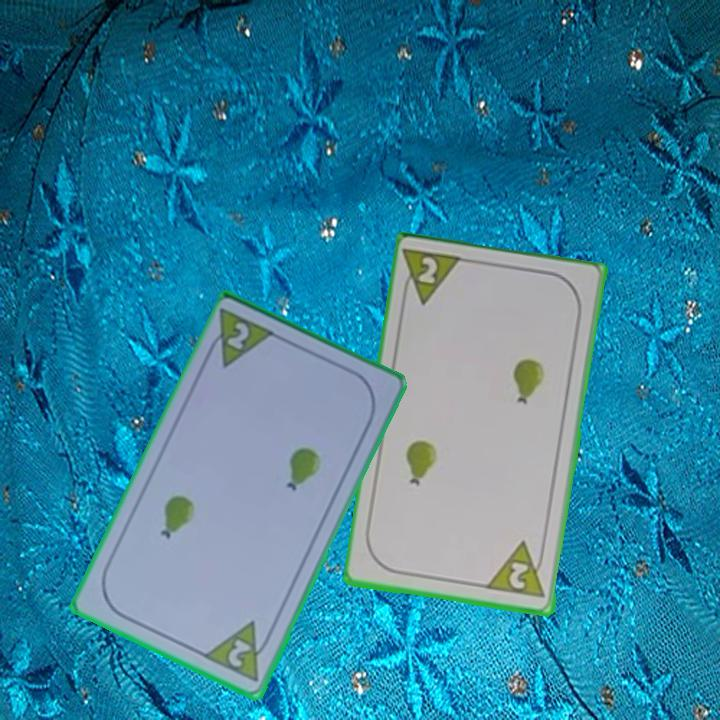2p: (200, 618, 277, 686), (400, 246, 468, 309), (484, 538, 549, 602), (223, 318, 253, 354)
